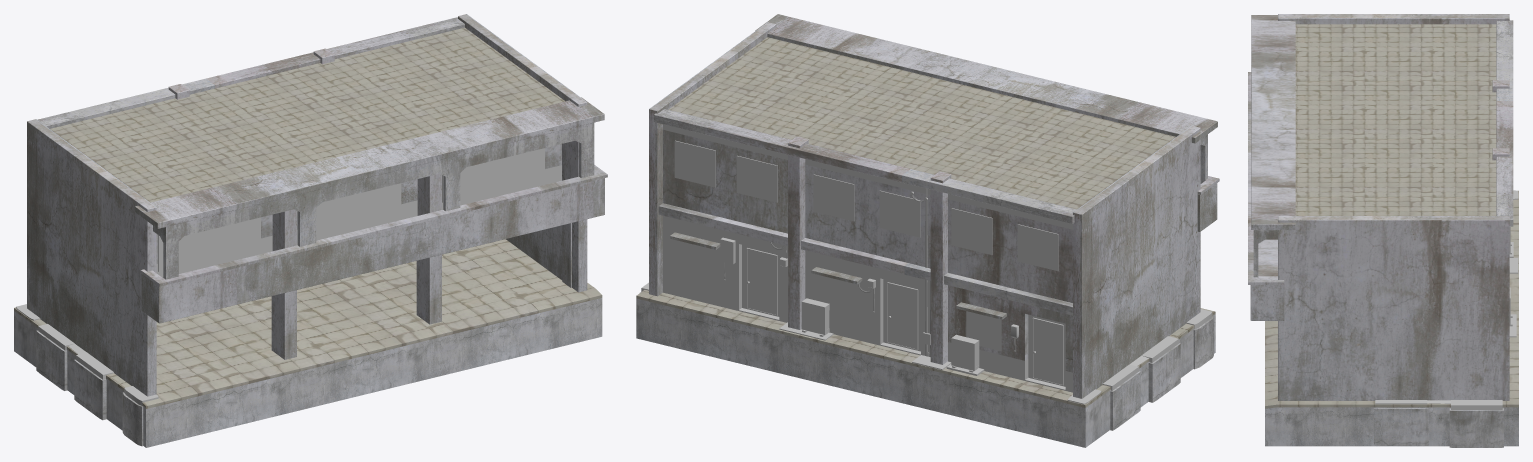
File: mallbil_3x2_2_in.fbx
3 renders of one model, left to right at view 1: azimuth 30°, elevation 25°; view 2: azimuth 150°, elevation 25°; view 3: azimuth 270°, elevation 25°, orthographic. The views are drawn at different scales.
Visible parts, largest first — view 1: mallbil_3x2_2_in; view 2: mallbil_3x2_2_in; view 3: mallbil_3x2_2_in.
Boxes of the visible parts, x1,y1,x2,y2 form: mallbil_3x2_2_in: [14, 14, 607, 447]; mallbil_3x2_2_in: [636, 14, 1219, 447]; mallbil_3x2_2_in: [1248, 14, 1518, 447].
Bounding box in the file's own units: 18.95 × 9.02 × 9.93.
